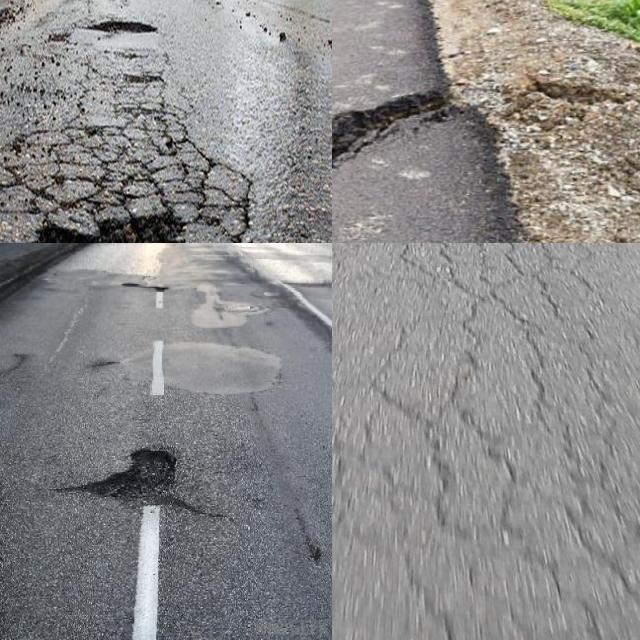Lubang: (83, 449, 193, 510)
Pinggir: (332, 87, 523, 243)
Retak Buaya: (395, 243, 640, 640), (0, 56, 250, 243)
